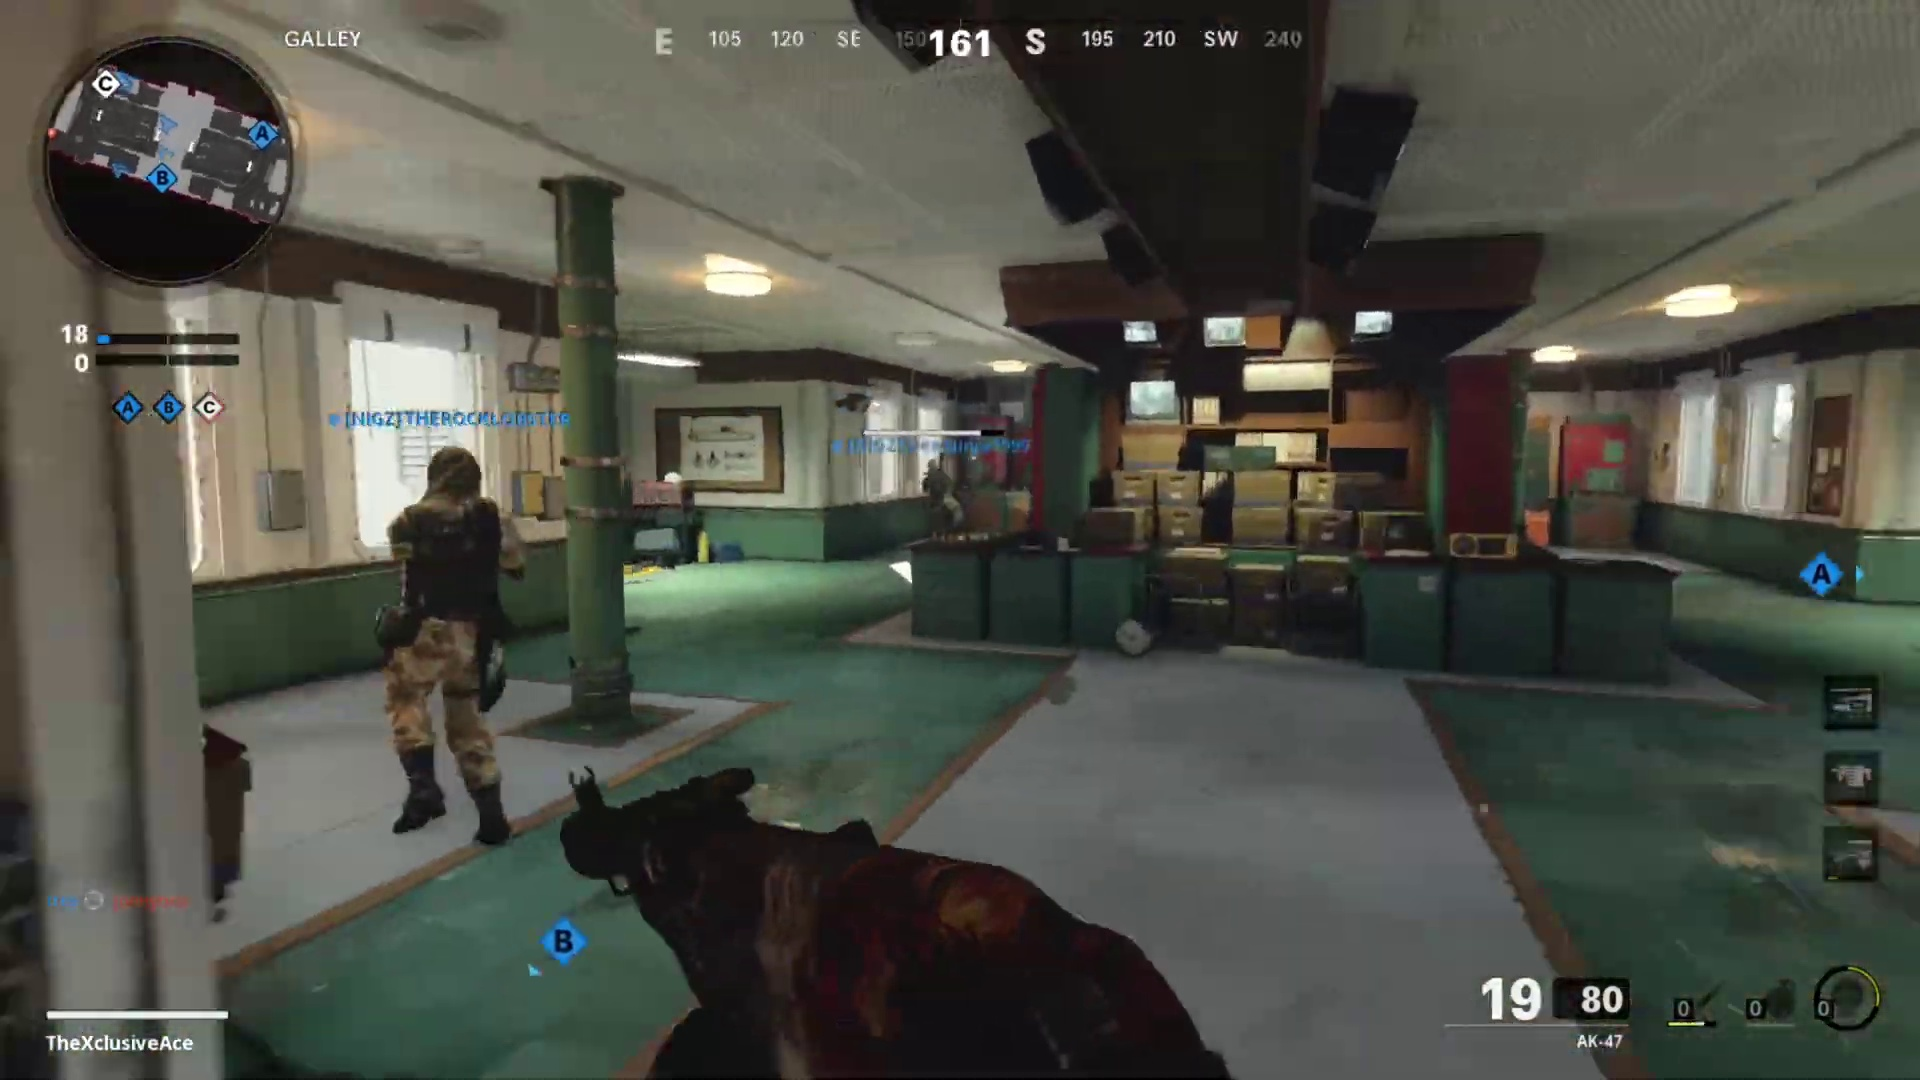head: (420, 445, 483, 510), (920, 457, 945, 476)
person: (375, 436, 517, 842), (922, 458, 959, 539)
